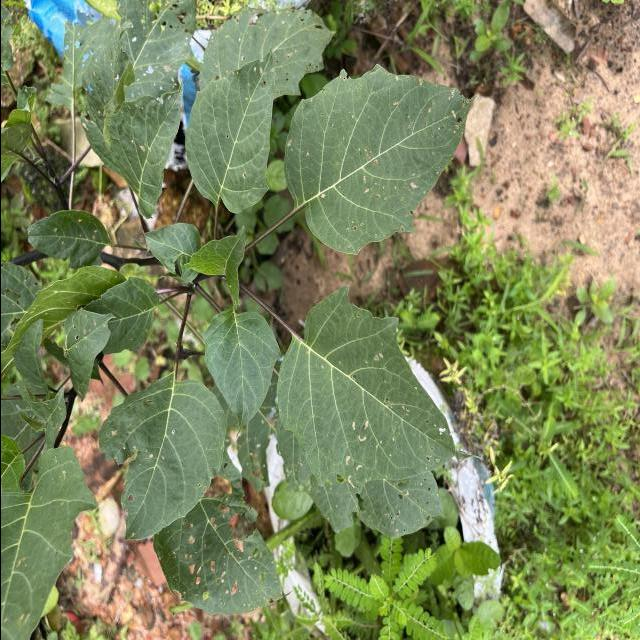Datura metal linn: (274, 282, 484, 499), (280, 60, 477, 258), (94, 371, 228, 544), (180, 44, 276, 216), (200, 305, 284, 440)
